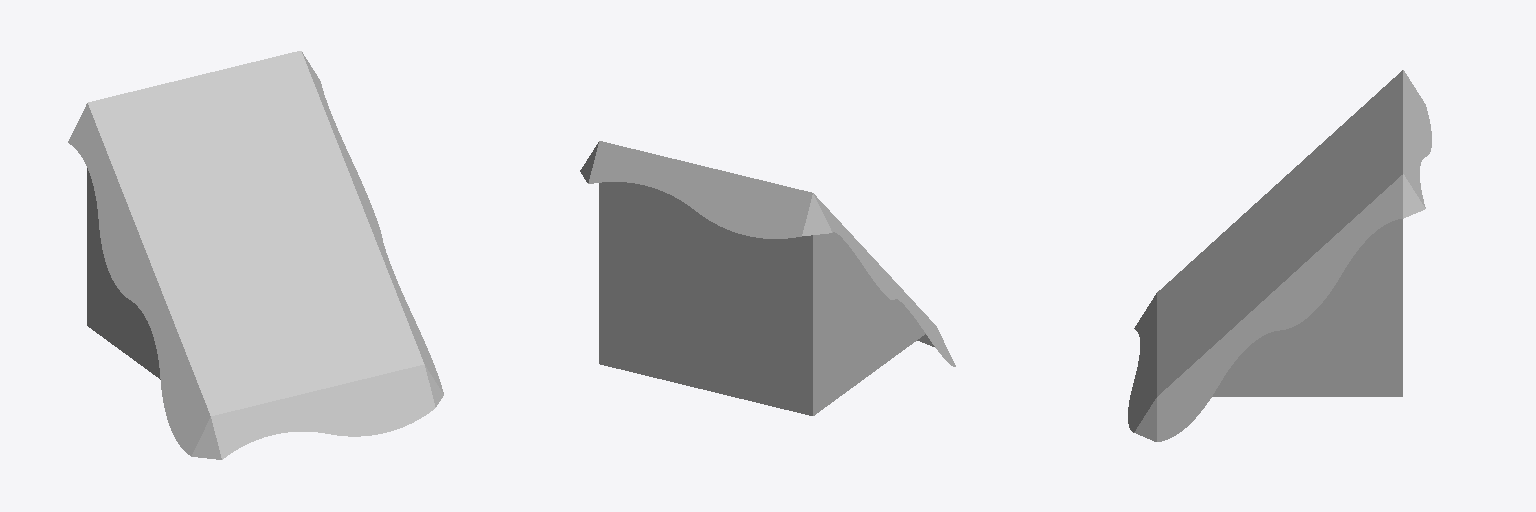
File: blockSnowSlope.obj
3 renders of one model, left to right at view 1: azimuth 30°, elevation 25°; view 2: azimuth 150°, elevation 25°; view 3: azimuth 270°, elevation 25°, orthographic.
Visible parts, largest first — view 1: blockSnowSlope; view 2: blockSnowSlope; view 3: blockSnowSlope.
Part boxes in pixels (x1,y1,x2,y2): blockSnowSlope: (68, 51, 443, 459); blockSnowSlope: (580, 141, 955, 415); blockSnowSlope: (1128, 70, 1431, 441).
Size of the model in its own units: 1.23 by 1.2 by 1.23.